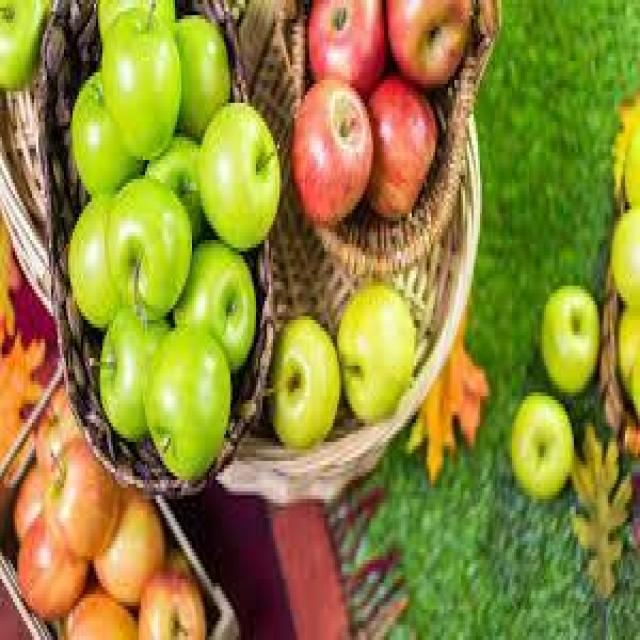maca: (65, 0, 282, 464), (294, 0, 474, 226), (6, 465, 205, 640), (338, 286, 419, 414), (268, 320, 340, 454), (508, 384, 580, 507), (543, 281, 601, 408)
